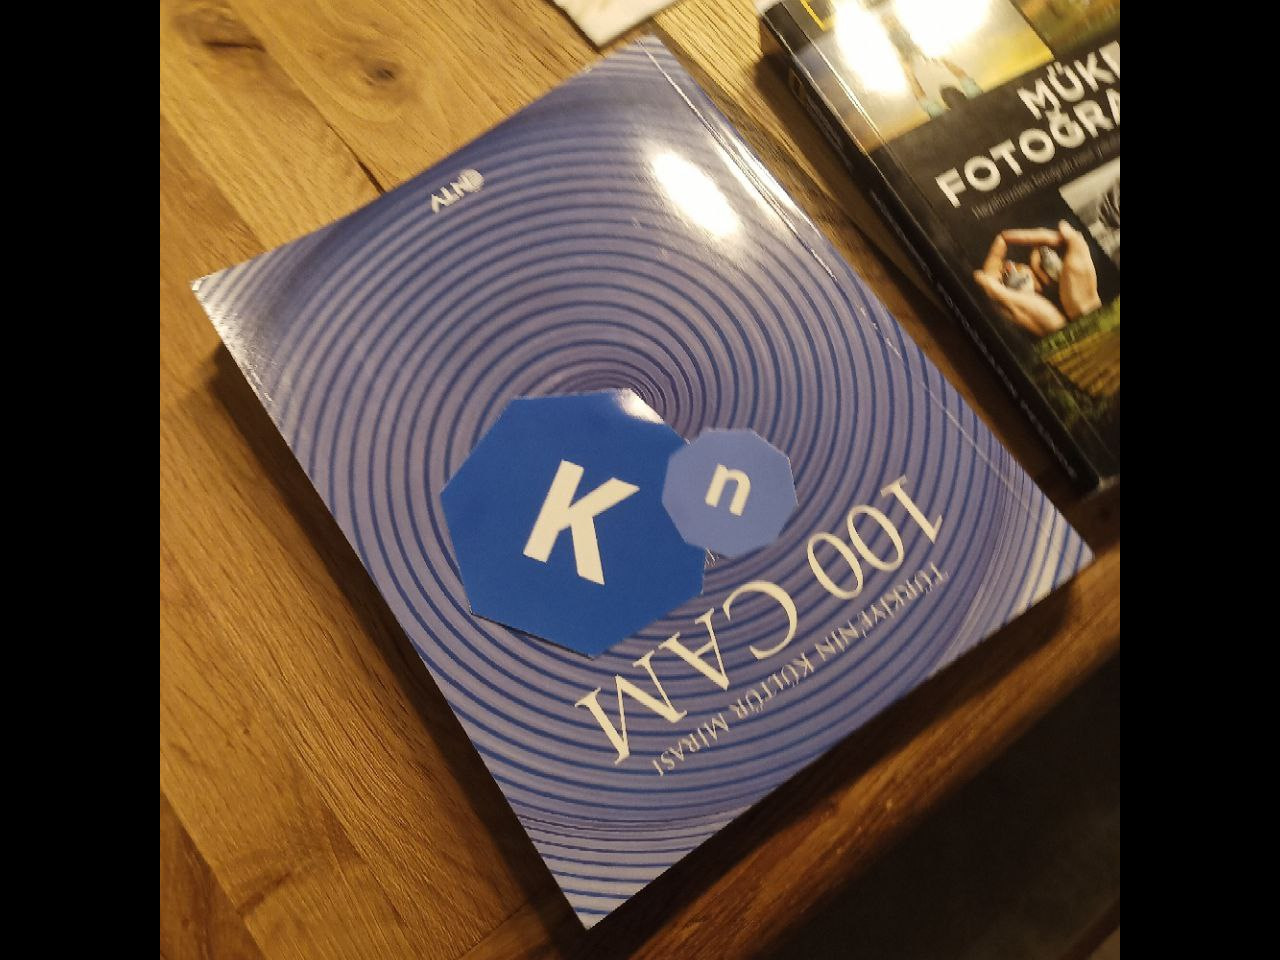knative: (438, 384, 799, 659)
